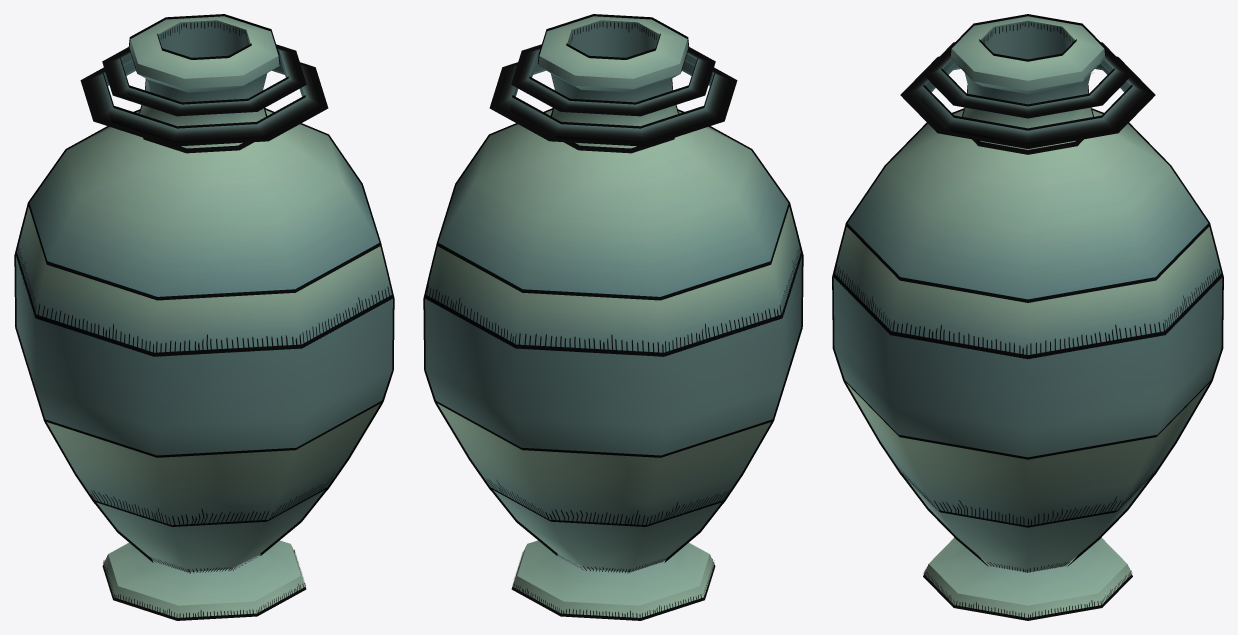
The model's file is pm-vase-small.glb.
The picture shows the model from 3 angles, left to right: view 1: azimuth 30°, elevation 25°; view 2: azimuth 150°, elevation 25°; view 3: azimuth 270°, elevation 25°; orthographic projection.
Visible parts, largest first — view 1: Vase_Small; view 2: Vase_Small; view 3: Vase_Small.
Boxes of the visible parts, box(x1,y1,x2,y2) form: Vase_Small: box(14, 14, 394, 620); Vase_Small: box(423, 14, 803, 620); Vase_Small: box(832, 14, 1223, 620).
Bounding box in the file's own units: 0.7234 × 1.09 × 0.7234.
Materials: 3 (2 with a texture image).
